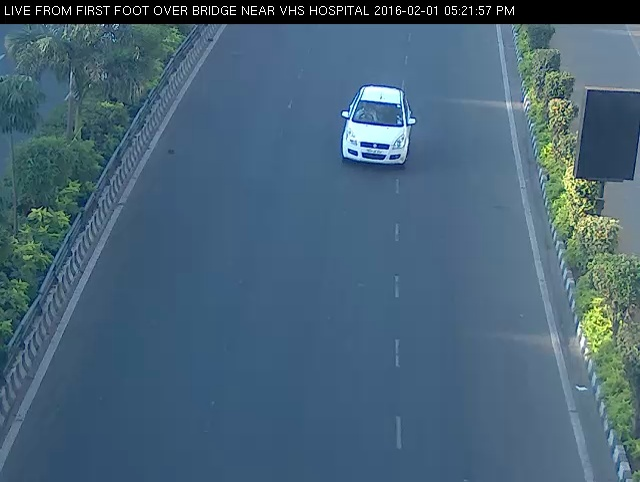Car: (334, 64, 426, 180)
